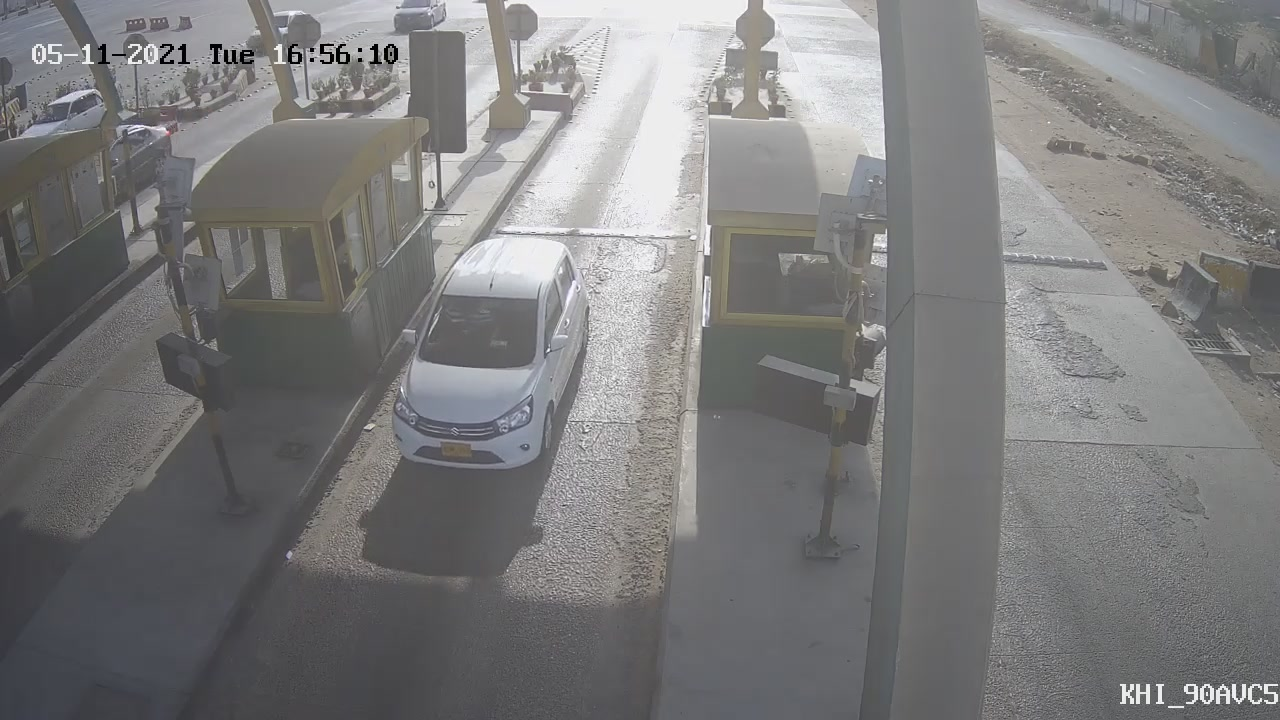F1: (361, 212, 616, 498)
